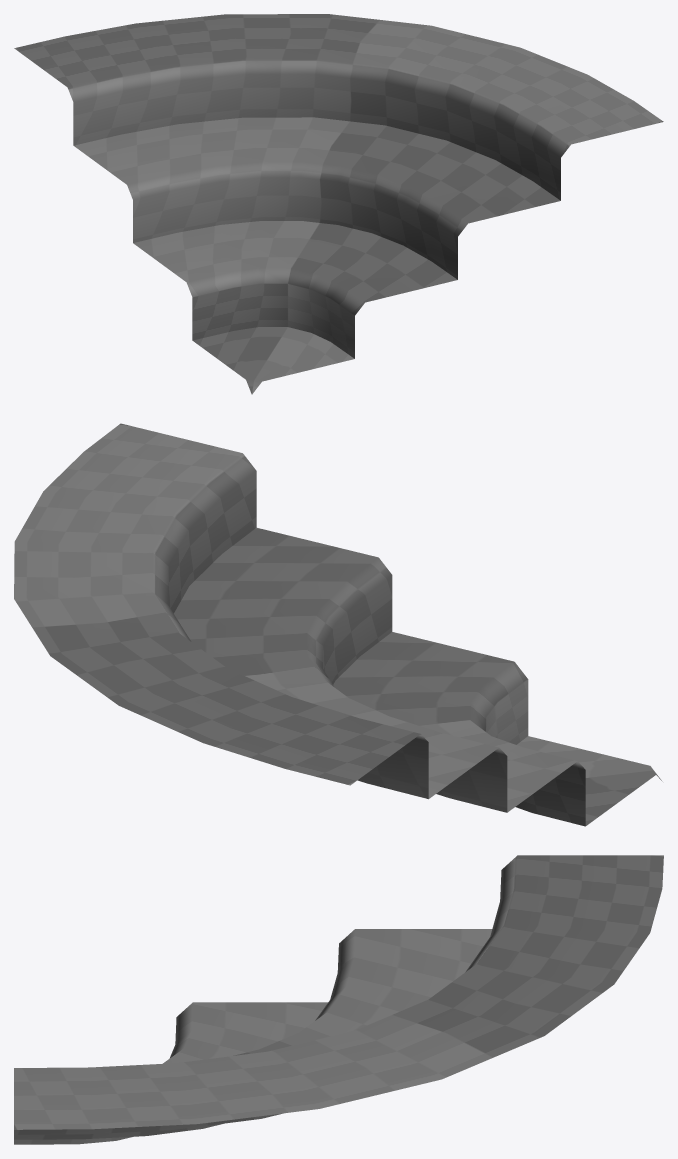
File: StairsCorner2_X2_Y1_Z2.fbx
3 views of the same model, one above another, from view 1: azimuth 30°, elevation 25°; view 2: azimuth 150°, elevation 25°; view 3: azimuth 270°, elevation 25° (orthographic). The views are drawn at different scales.
Visible parts, largest first — view 1: StairsCorner2_X2_Y1_Z2; view 2: StairsCorner2_X2_Y1_Z2; view 3: StairsCorner2_X2_Y1_Z2.
Boxes of the visible parts, bbox=[...] form: StairsCorner2_X2_Y1_Z2: bbox=[14, 14, 663, 394]; StairsCorner2_X2_Y1_Z2: bbox=[14, 423, 662, 826]; StairsCorner2_X2_Y1_Z2: bbox=[14, 855, 663, 1144].
Size of the model in its own units: 2 by 0.8 by 2.
